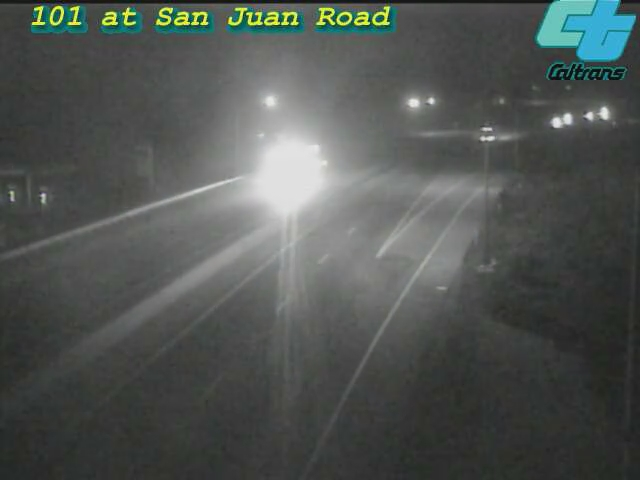vehicle: (245, 133, 325, 213), (532, 99, 582, 149), (462, 108, 512, 158), (541, 93, 591, 143), (579, 88, 629, 138), (564, 91, 614, 141)
